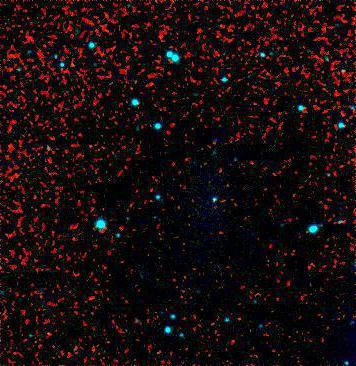star: (60, 48, 90, 78)
